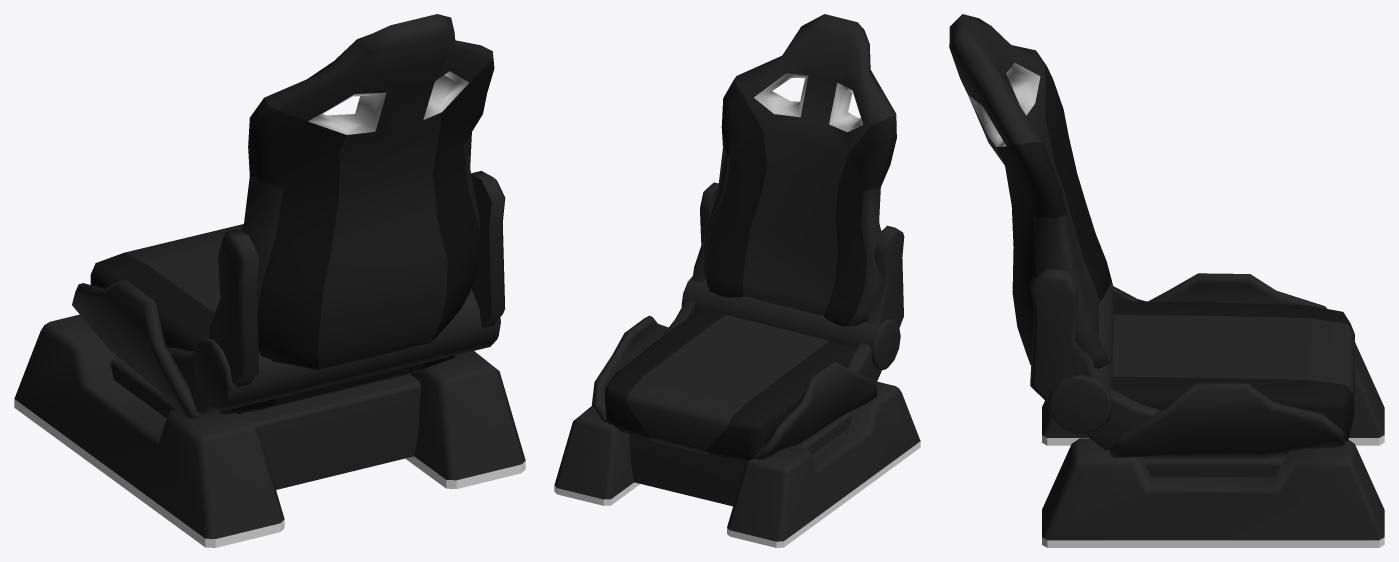
Rendered from entertainment_016.fbx.
The picture shows the model from 3 angles, left to right: view 1: azimuth 30°, elevation 25°; view 2: azimuth 150°, elevation 25°; view 3: azimuth 270°, elevation 25°; orthographic projection. The views are drawn at different scales.
Visible parts, largest first — view 1: entertainment_016; view 2: entertainment_016; view 3: entertainment_016.
Boxes of the visible parts, <box> form: entertainment_016: <box>14,14,525,547</box>; entertainment_016: <box>554,14,920,547</box>; entertainment_016: <box>949,14,1384,547</box>.
Bounding box in the file's own units: 80.31 × 109 × 126.
